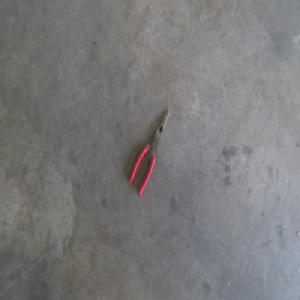Pliers: (128, 109, 171, 198)
